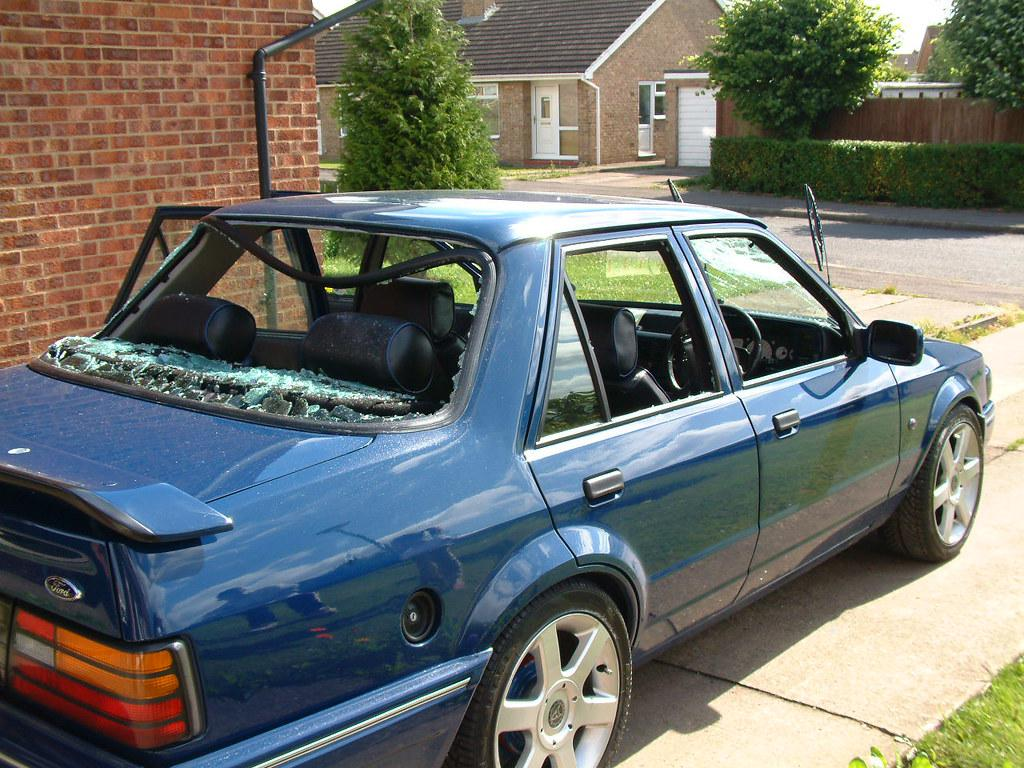Rear-windscreen-Damage: (73, 183, 482, 447)
